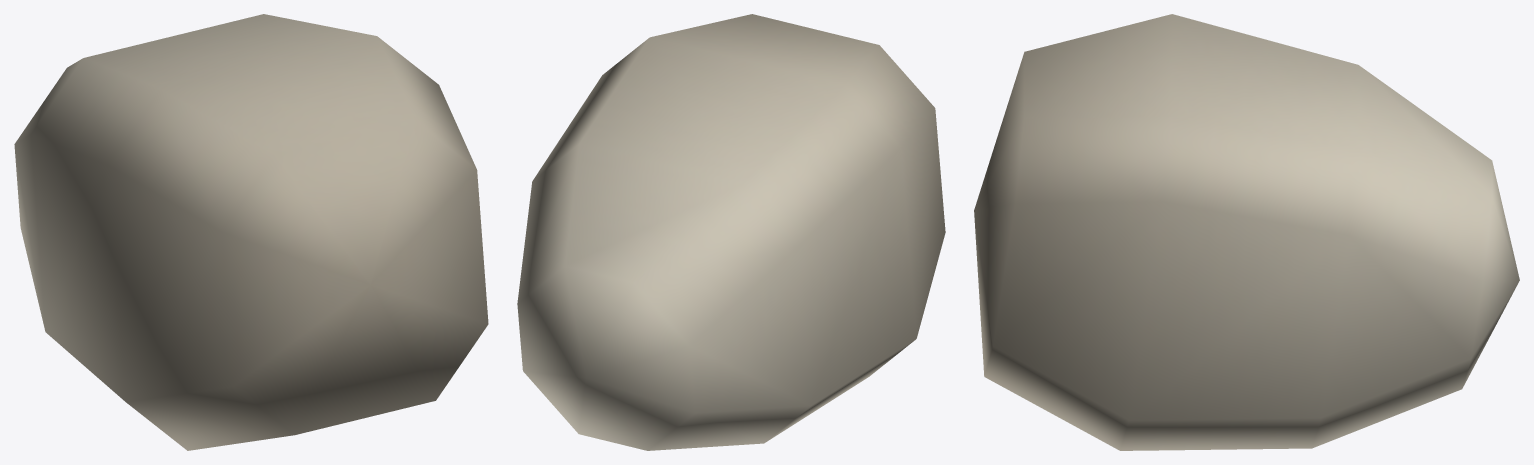
Rendered from egg_white.fbx.
3 renders of one model, left to right at view 1: azimuth 30°, elevation 25°; view 2: azimuth 150°, elevation 25°; view 3: azimuth 270°, elevation 25°, orthographic. The views are drawn at different scales.
Parts seen in each view (by area): view 1: egg_white; view 2: egg_white; view 3: egg_white.
Part boxes in pixels (x1,y1,x2,y2): egg_white: (14,14,488,450); egg_white: (517,14,945,450); egg_white: (974,14,1519,450).
Bounding box in the file's own units: 15 × 15.12 × 22.
